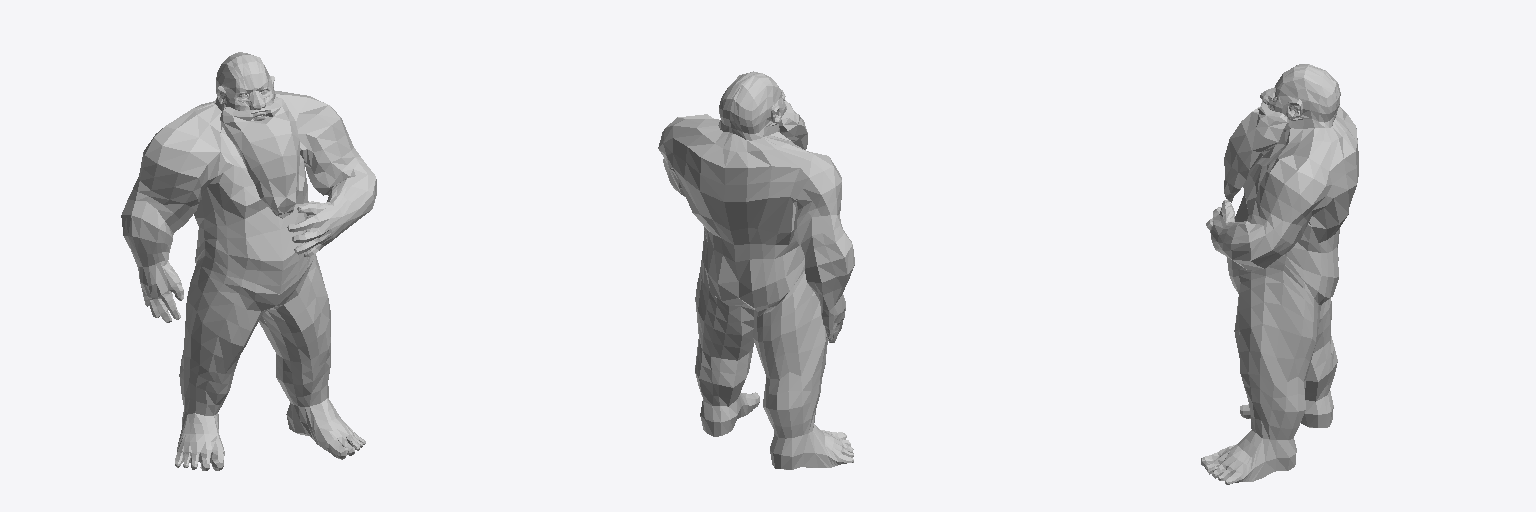
File: DwarfBody.obj
3 views of the same model, side by side, from view 1: azimuth 30°, elevation 25°; view 2: azimuth 150°, elevation 25°; view 3: azimuth 270°, elevation 25° (orthographic).
Parts seen in each view (by area): view 1: default; view 2: default; view 3: default.
Boxes of the visible parts, box(x1,y1,x2,y2) form: default: box(121, 52, 376, 470); default: box(658, 71, 854, 469); default: box(1201, 64, 1358, 484).
Size of the model in its own units: 1.06 by 1.8 by 0.6791.